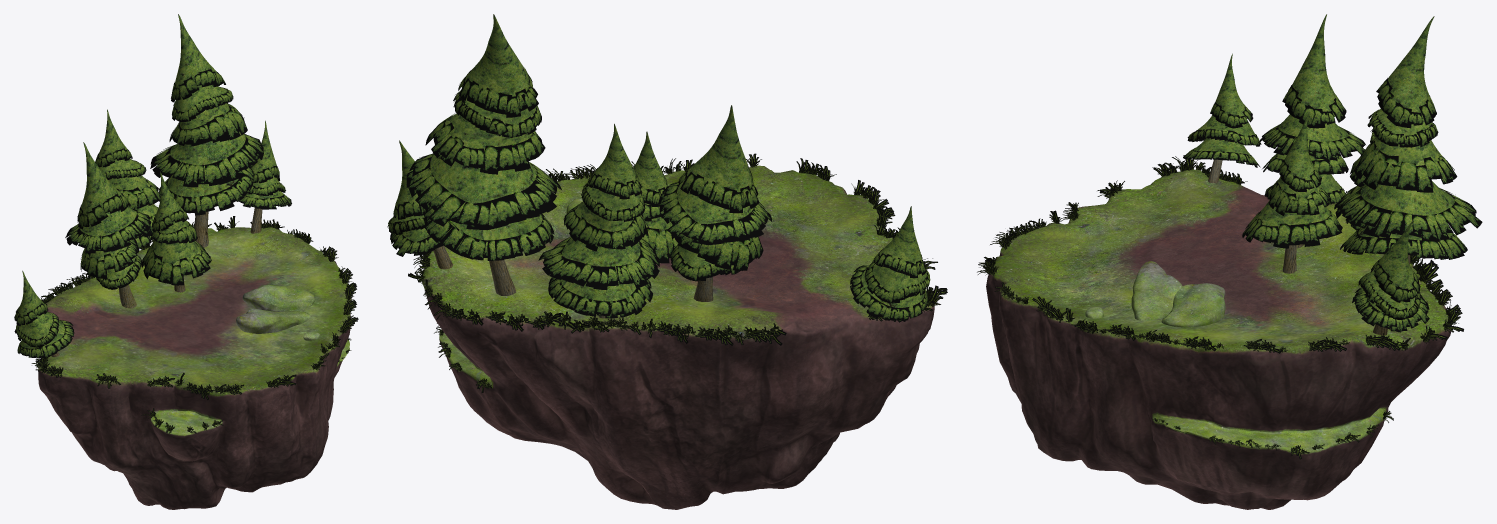
The picture shows the model from 3 angles, left to right: view 1: azimuth 30°, elevation 25°; view 2: azimuth 150°, elevation 25°; view 3: azimuth 270°, elevation 25°; orthographic projection. The views are drawn at different scales.
Visible parts, largest first — view 1: forest_01.2, forest_02.3; view 2: forest_01.2, forest_02.3; view 3: forest_01.2, forest_02.3.
Part boxes in pixels (<box>): forest_01.2: <box>38,227,351,509</box>; forest_02.3: <box>14,14,358,434</box>; forest_01.2: <box>422,165,934,509</box>; forest_02.3: <box>387,14,947,392</box>; forest_01.2: <box>986,169,1451,509</box>; forest_02.3: <box>977,14,1482,459</box>.
Size of the model in its own units: 2.95 by 3.37 by 2.97.
2 materials, 2 textured.
